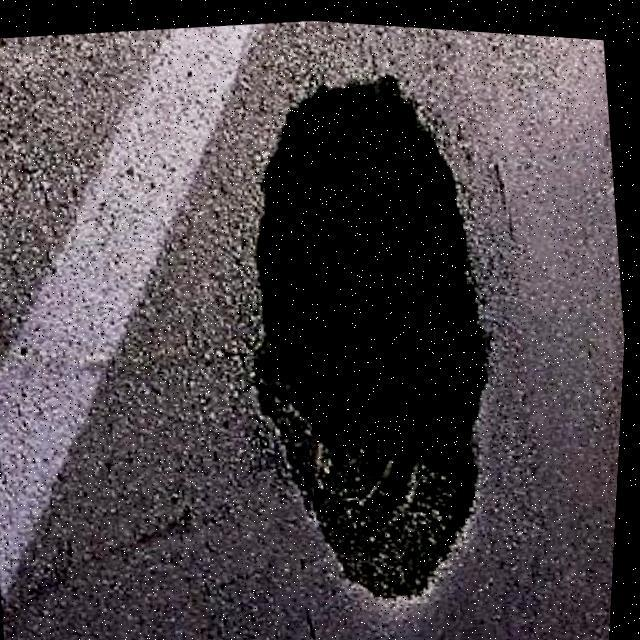pothole: (208, 45, 544, 618)
